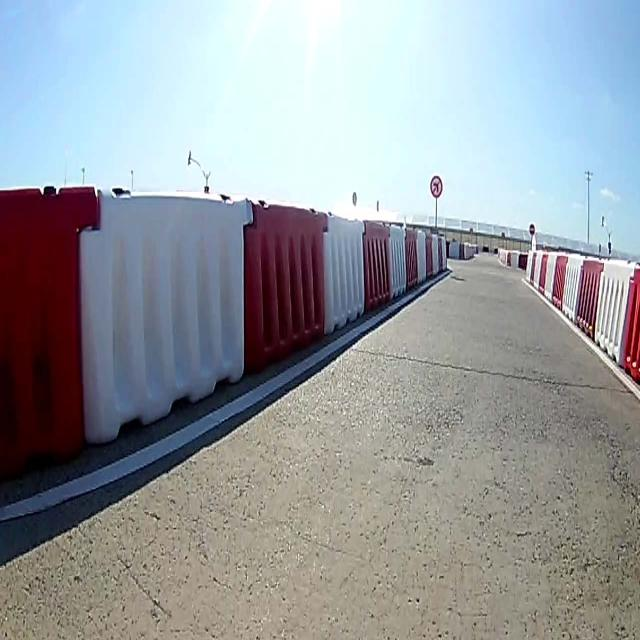soladonulmez: (429, 176, 444, 197)
